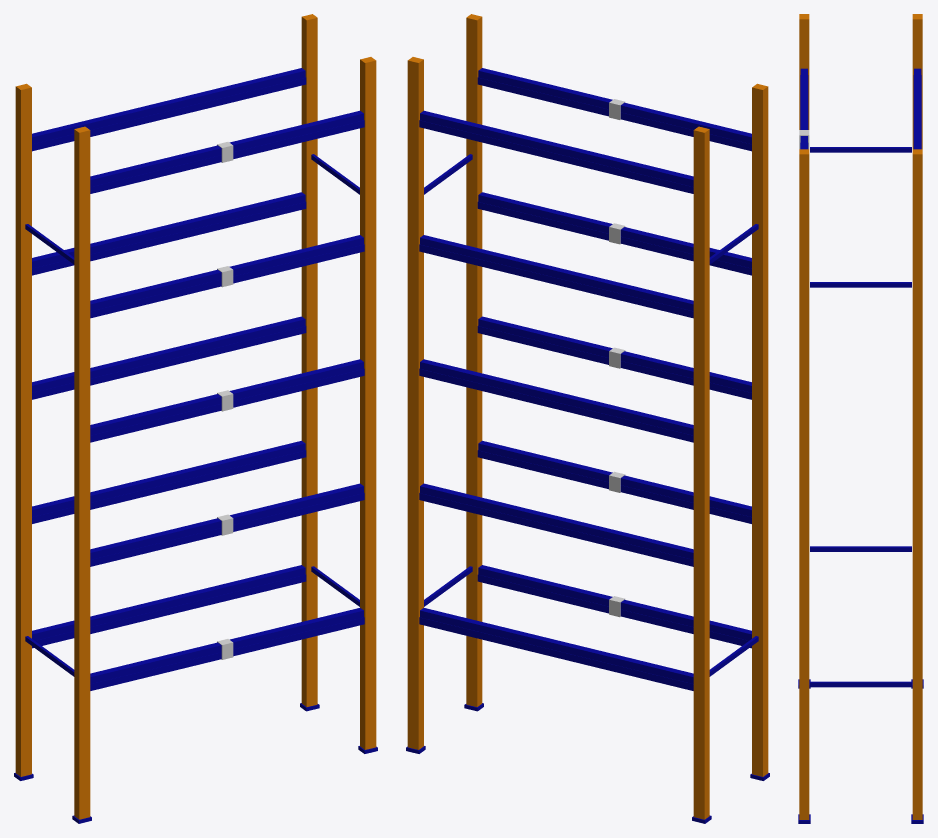
Rendered from high-duty-C27-5.glb.
3 views of the same model, side by side, from view 1: azimuth 30°, elevation 25°; view 2: azimuth 150°, elevation 25°; view 3: azimuth 270°, elevation 25° (orthographic). The views are drawn at different scales.
Visible parts, largest first — view 1: part_0, part_4, part_2, part_6, part_30, part_23, part_18, part_8, part_28, part_13, part_15, part_20 (+12 smaller); view 2: part_4, part_0, part_6, part_2, part_20, part_25, part_10, part_15, part_30, part_28, part_13, part_18 (+12 smaller); view 3: part_2, part_6, part_4, part_0, part_35, part_30, part_33, part_34, part_36, part_28.
Boxes of the visible parts, bbox=[...] form: part_0: bbox=[74, 126, 90, 819]; part_4: bbox=[15, 83, 31, 776]; part_2: bbox=[360, 57, 376, 749]; part_6: bbox=[301, 14, 317, 706]; part_30: bbox=[32, 68, 305, 144]; part_23: bbox=[90, 235, 363, 311]; part_18: bbox=[90, 359, 363, 435]; part_8: bbox=[90, 608, 363, 683]; part_28: bbox=[90, 110, 363, 186]; part_13: bbox=[90, 483, 363, 559]; part_15: bbox=[32, 440, 305, 516]; part_20: bbox=[32, 316, 305, 392]; part_4: bbox=[693, 126, 709, 819]; part_0: bbox=[752, 83, 768, 776]; part_6: bbox=[407, 57, 423, 749]; part_2: bbox=[466, 14, 482, 706]; part_20: bbox=[420, 359, 693, 435]; part_25: bbox=[420, 235, 693, 311]; part_10: bbox=[420, 608, 693, 683]; part_15: bbox=[420, 483, 693, 559]; part_30: bbox=[420, 110, 693, 186]; part_28: bbox=[478, 68, 751, 144]; part_13: bbox=[478, 440, 751, 516]; part_18: bbox=[478, 316, 751, 392]; part_2: bbox=[799, 149, 809, 819]; part_6: bbox=[912, 149, 922, 819]; part_4: bbox=[912, 14, 922, 149]; part_0: bbox=[799, 14, 809, 129]; part_35: bbox=[810, 681, 911, 687]; part_30: bbox=[914, 68, 921, 149]; part_33: bbox=[810, 546, 911, 551]; part_34: bbox=[810, 147, 911, 152]; part_36: bbox=[810, 282, 911, 287]; part_28: bbox=[800, 68, 807, 149].
Bounding box in the file's own units: 2720 × 6000 × 1020.
